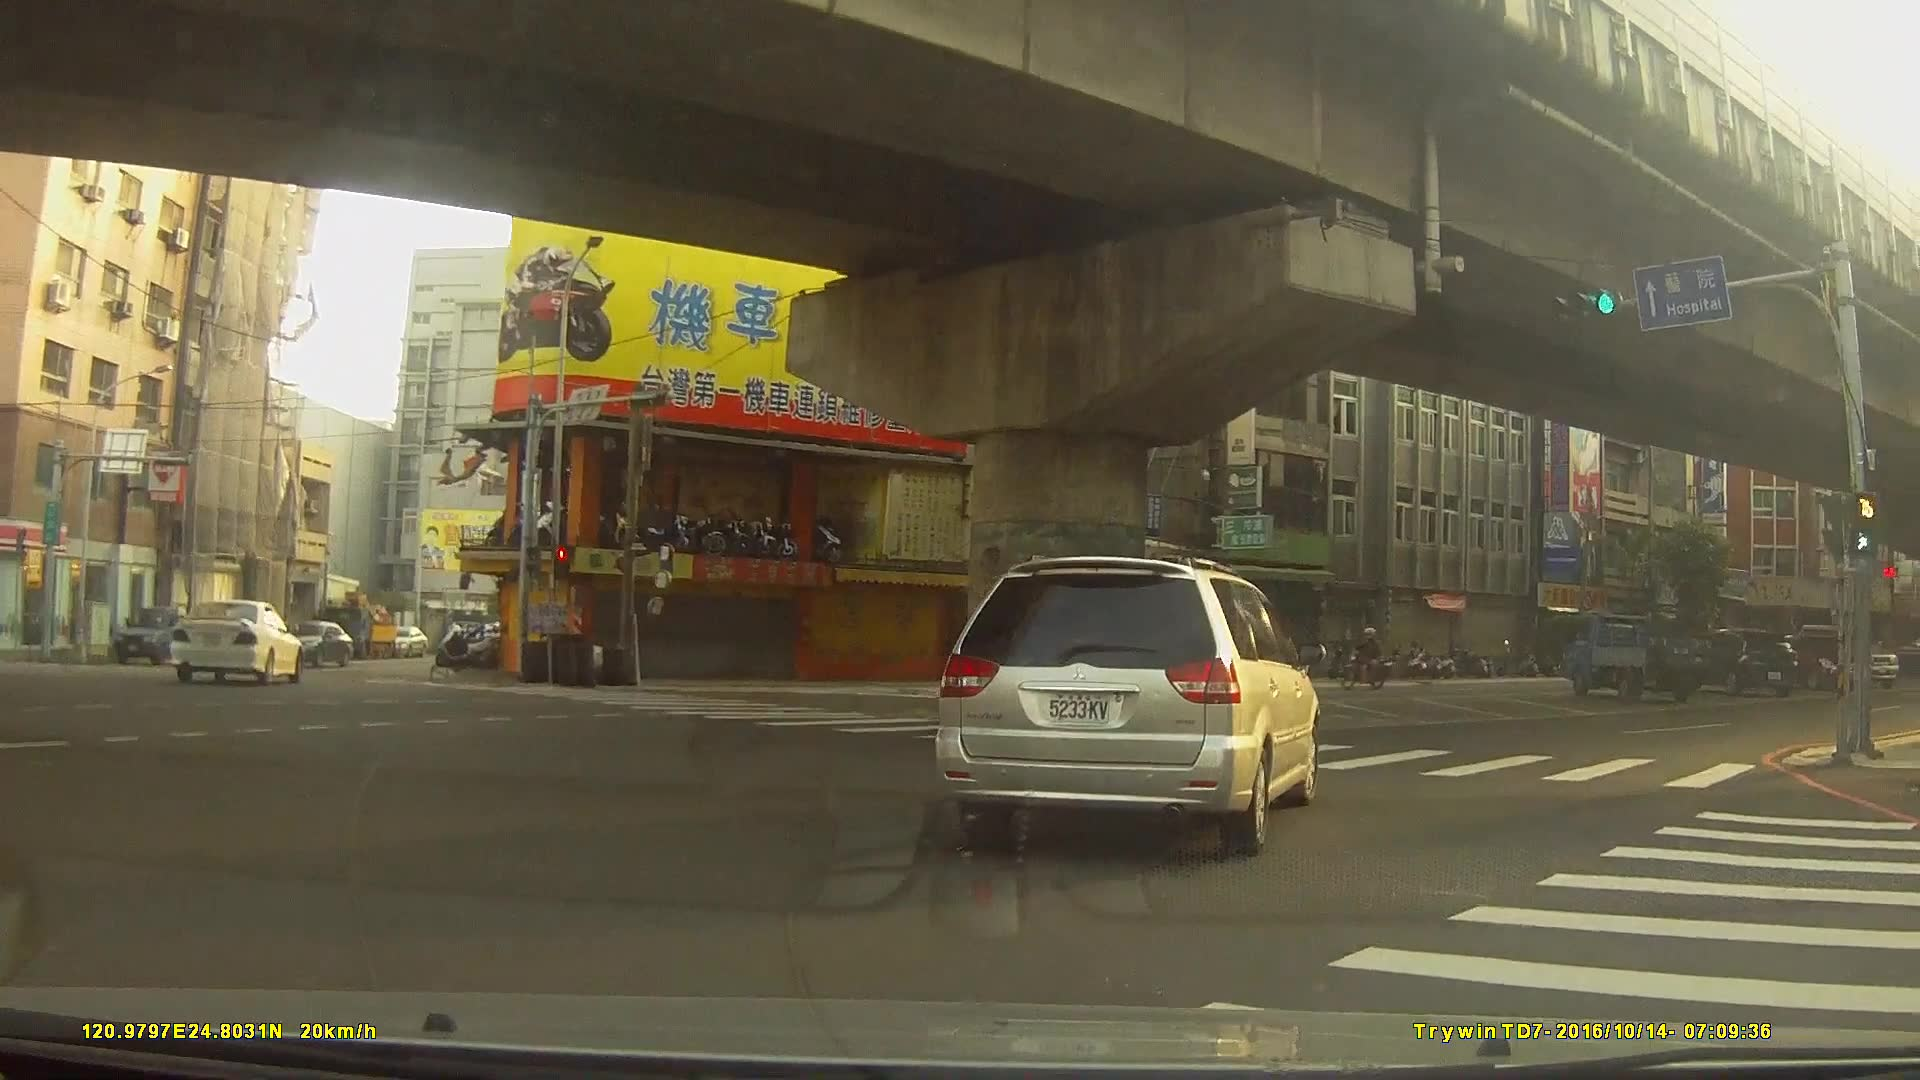rider: (1338, 629, 1396, 692)
vehicle: (932, 555, 1318, 853), (1561, 610, 1715, 700), (168, 597, 302, 684), (1677, 627, 1799, 695), (113, 601, 205, 662), (277, 618, 351, 666), (385, 625, 425, 656)
